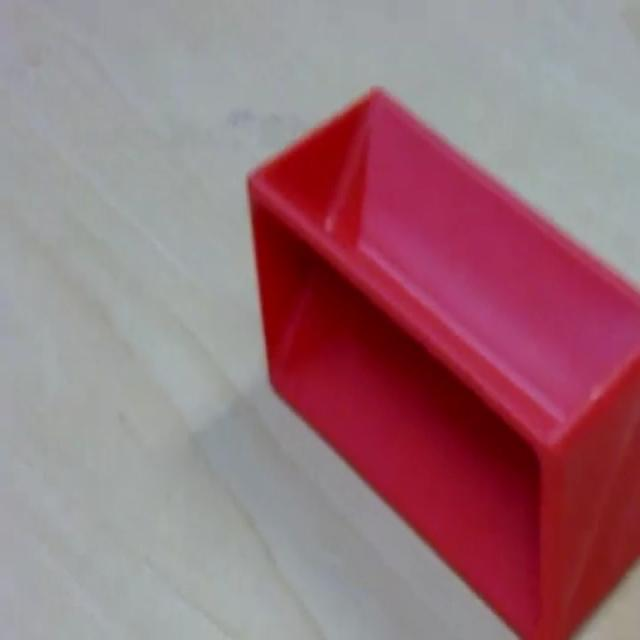red_block: (244, 84, 638, 636)
